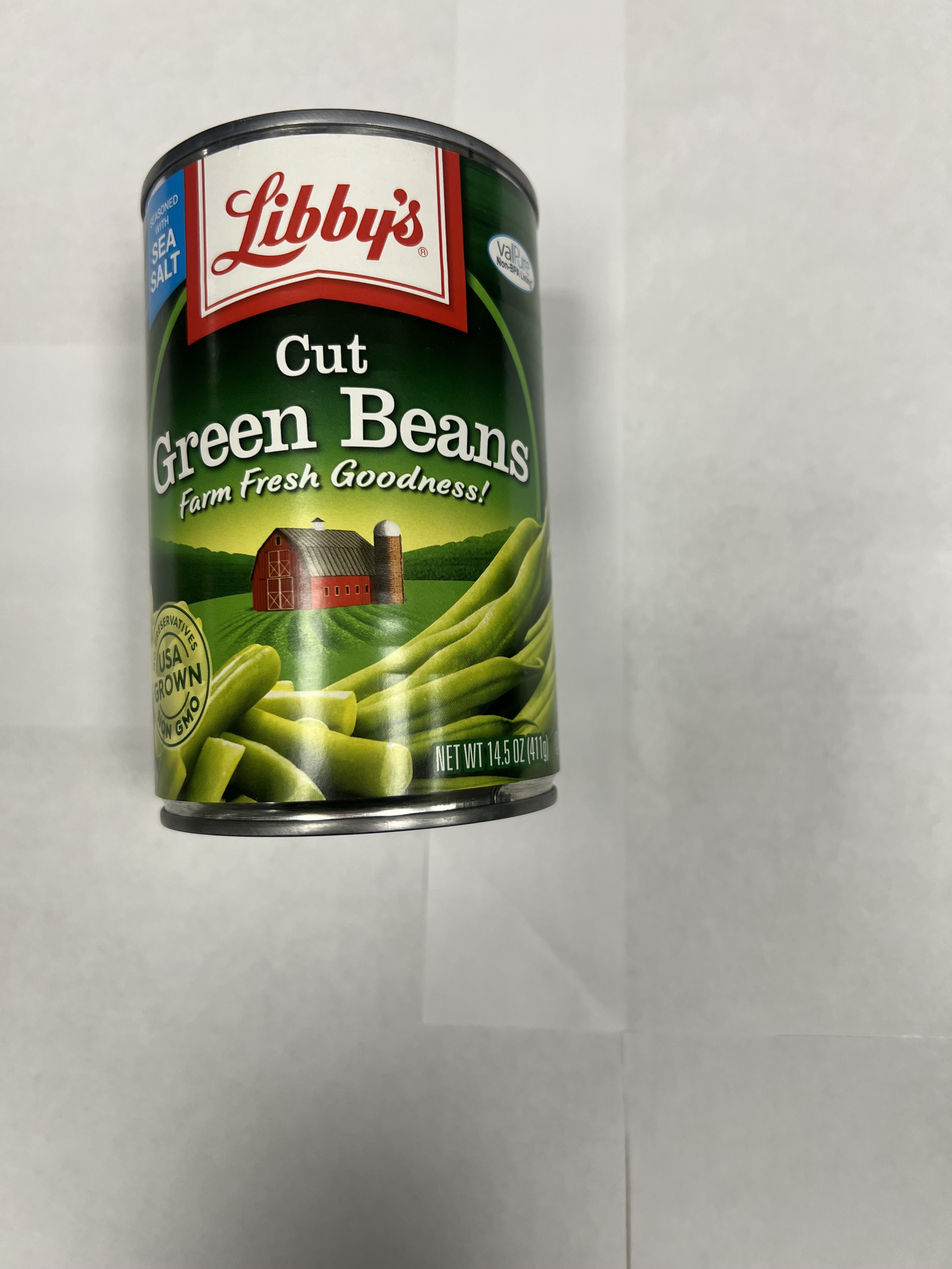packaged: (120, 103, 574, 842)
